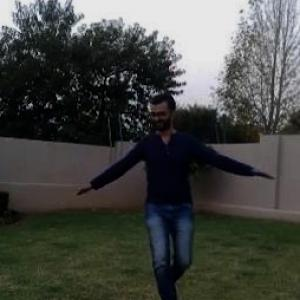land: (74, 71, 299, 299)
